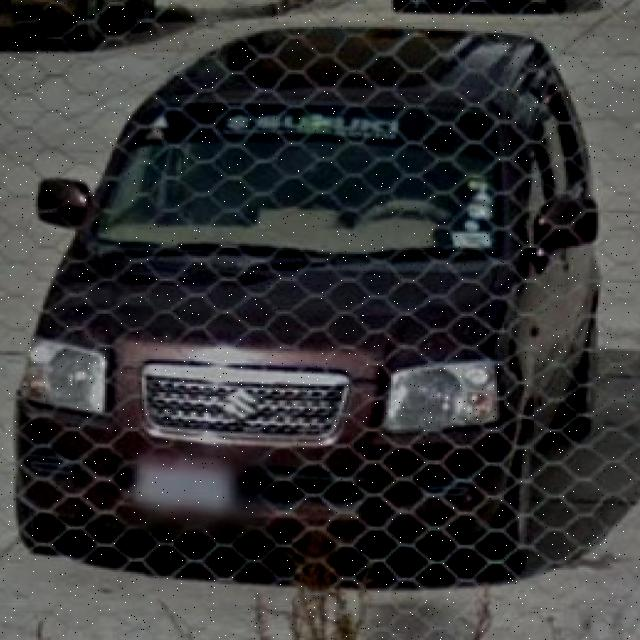car: (13, 37, 602, 571)
